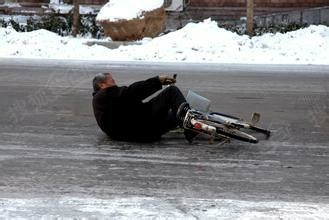falling: (82, 69, 210, 143)
